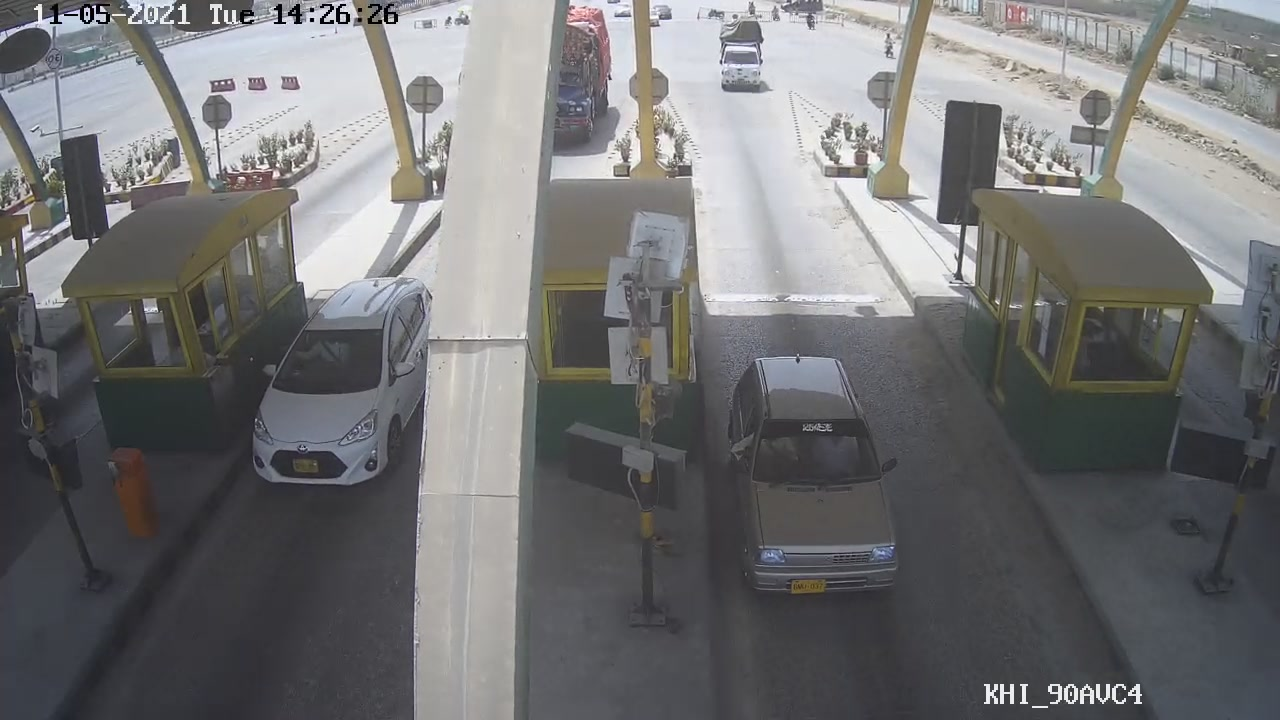F1: (715, 351, 904, 620)
